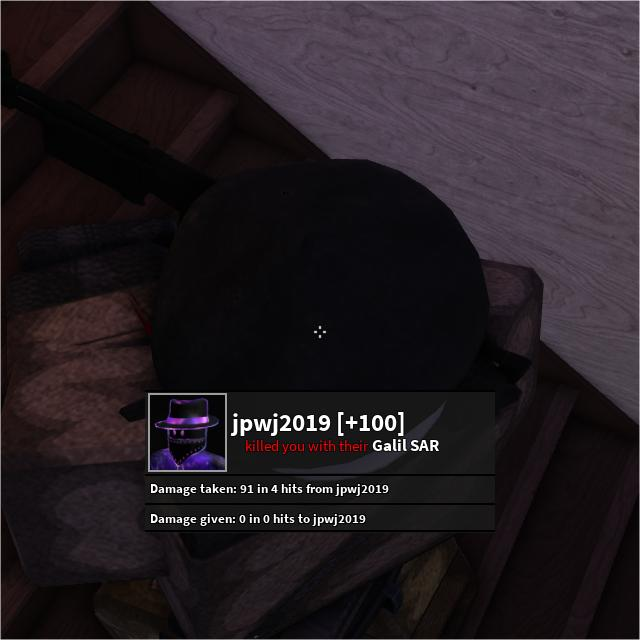Head: (135, 160, 542, 464)
